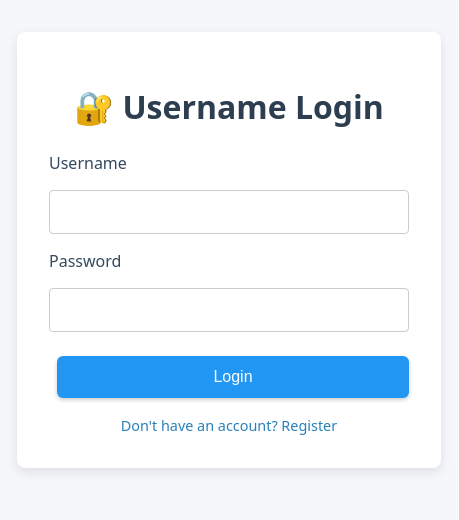
Test: LoginPage Component › handles login failure
The width and height of the screenshot is (459, 520).
In the field labelled "Username": (229, 212) top-left (49, 190), bottom-right (409, 234), type "testuser"
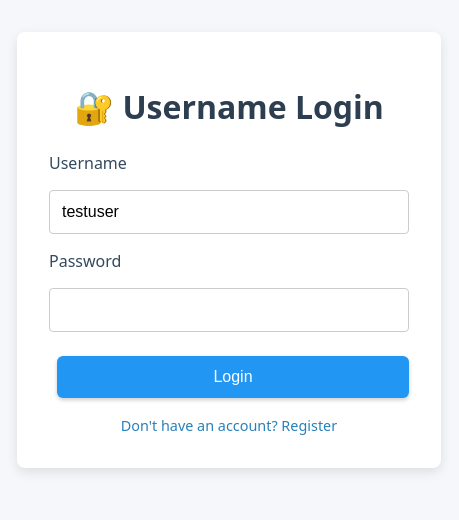
In the password field labelled "Password": (229, 310) top-left (49, 288), bottom-right (409, 332), type "wrongpassword"
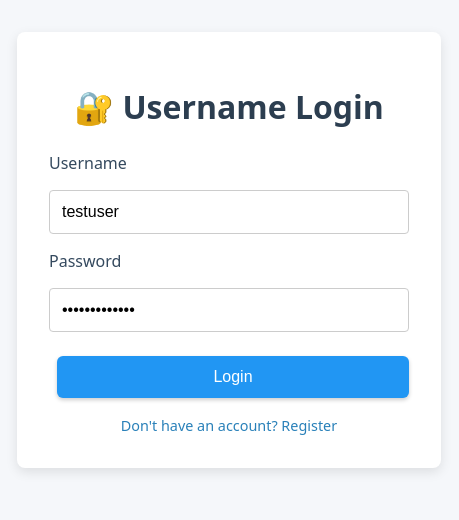
Click the button "Login": click(233, 377) top-left (57, 356), bottom-right (409, 398)
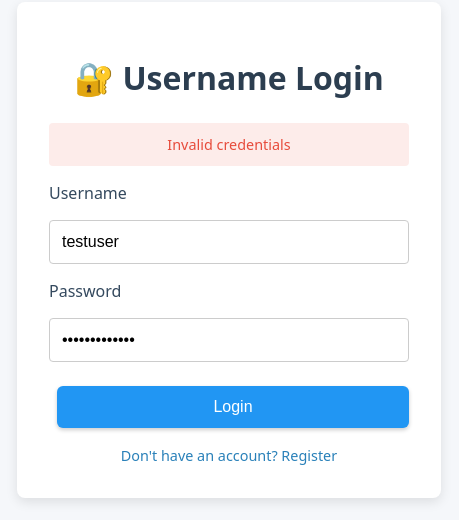
Expected: the text "Invalid credentials" is shown, top-left (49, 123), bottom-right (409, 166)
